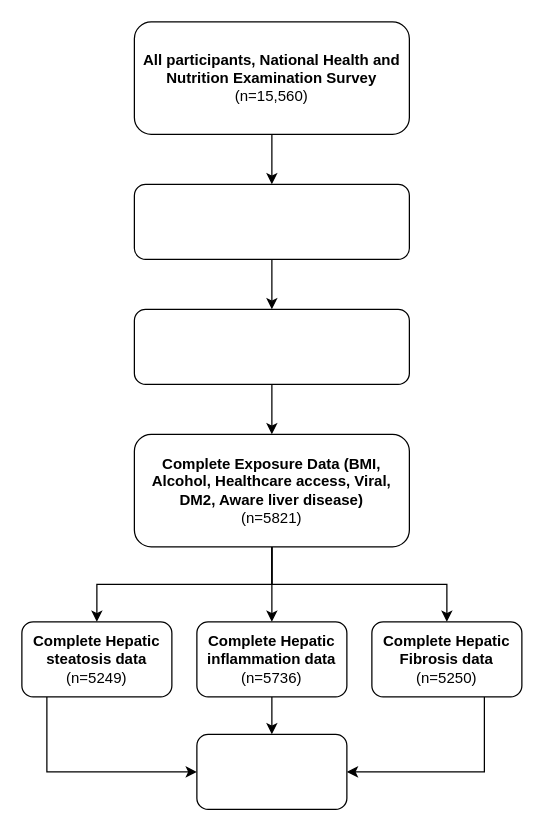
The diagram is 544 pixels wide and 831 high, and some of its shapes have lost their labels. Here are the shapes that lost their labels. From the top down, the centre of each, then its label:
At (271,221): "Aged 20 years and over (n=8544)".
At (271,346): "Complete Demographics (Education, Poverty) (n=7346)".
At (271,771): "Total Analytic sample (n=5170)".
